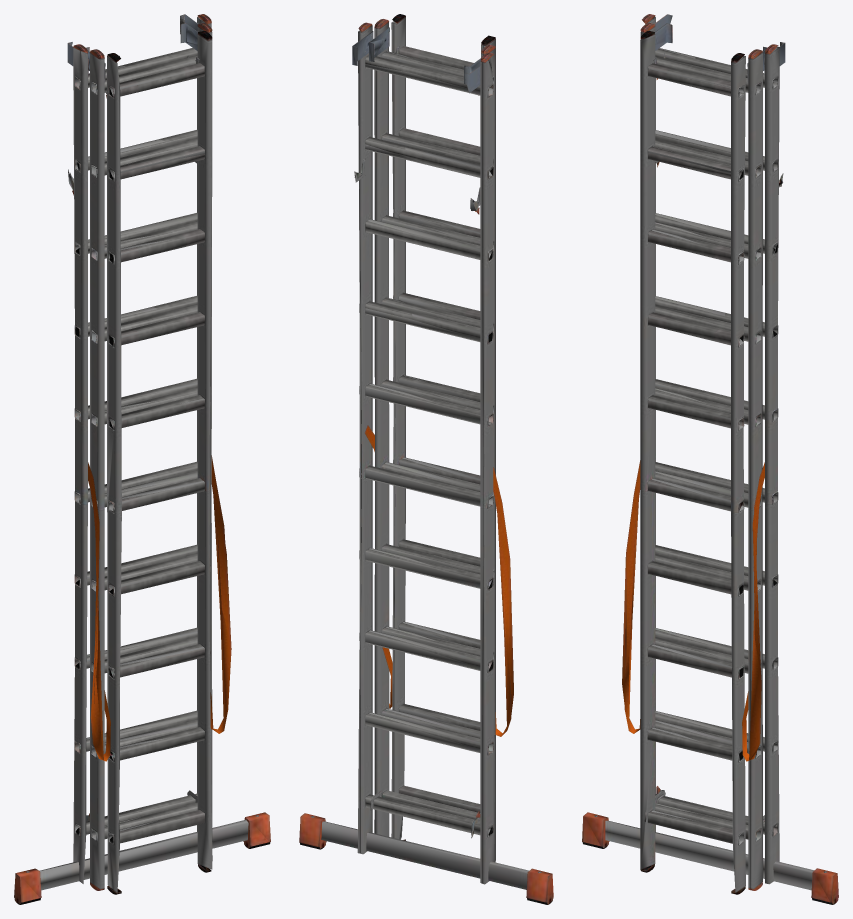
Rendered from ladder_sectioned_01_1k.gltf.
3 renders of one model, left to right at view 1: azimuth 30°, elevation 25°; view 2: azimuth 150°, elevation 25°; view 3: azimuth 330°, elevation 25°, orthographic.
Visible parts, largest first — view 1: ladder_section_03, ladder_section_01, ladder_section_02, ladder_ribbon; view 2: ladder_section_01, ladder_section_02, ladder_section_03, ladder_ribbon; view 3: ladder_section_03, ladder_section_01, ladder_section_02, ladder_ribbon.
Boxes of the visible parts, x1=… form: ladder_section_03: x1=106, y1=31, x2=212, y2=894; ladder_section_01: x1=14, y1=14, x2=270, y2=904; ladder_section_02: x1=86, y1=23, x2=212, y2=890; ladder_ribbon: x1=88, y1=455, x2=231, y2=761; ladder_section_01: x1=299, y1=22, x2=553, y2=904; ladder_section_02: x1=369, y1=19, x2=495, y2=862; ladder_section_03: x1=391, y1=14, x2=495, y2=860; ladder_ribbon: x1=365, y1=425, x2=513, y2=736; ladder_section_03: x1=640, y1=31, x2=745, y2=894; ladder_section_01: x1=582, y1=14, x2=838, y2=904; ladder_section_02: x1=640, y1=23, x2=766, y2=890; ladder_ribbon: x1=622, y1=460, x2=764, y2=761.
Bounding box in the file's own units: 0.6615 × 2.13 × 0.177.
1 material, 1 textured.
